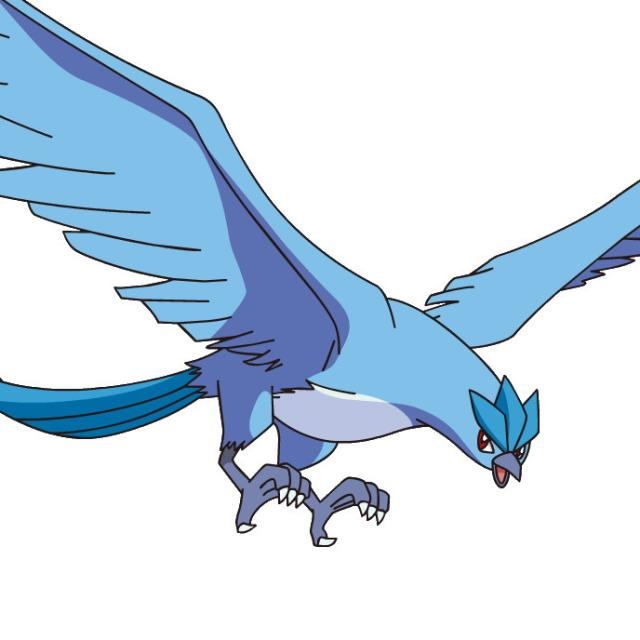Articuno: (131, 188, 608, 522)
